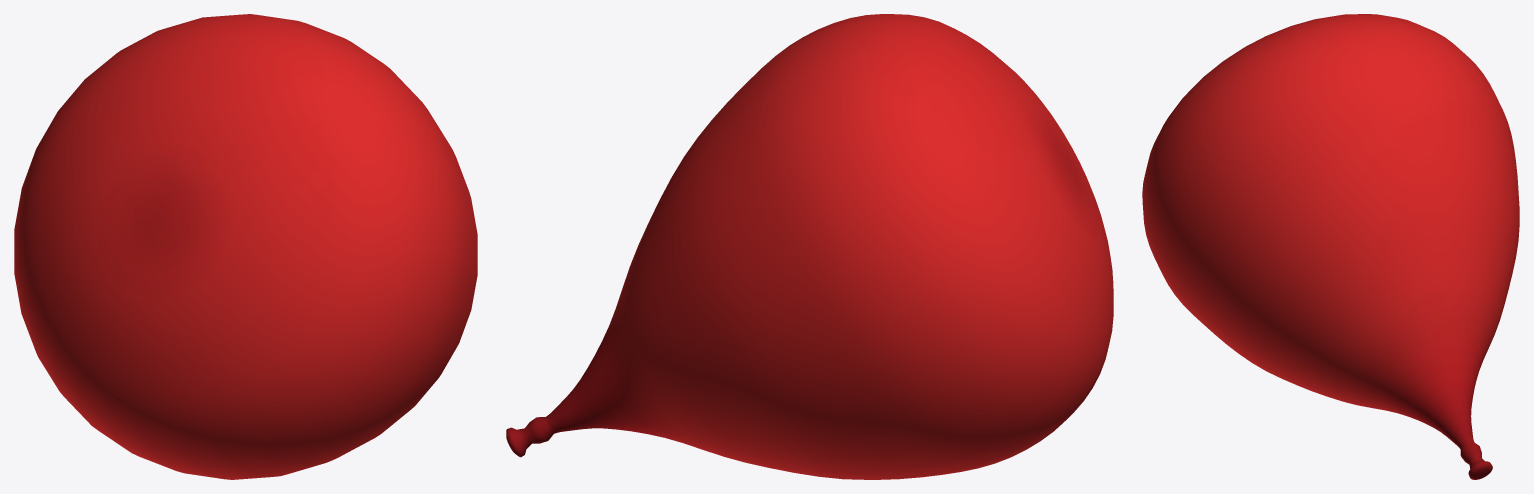
File: balloon.glb
3 views of the same model, side by side, from view 1: azimuth 30°, elevation 25°; view 2: azimuth 150°, elevation 25°; view 3: azimuth 270°, elevation 25° (orthographic). The views are drawn at different scales.
Visible parts, largest first — view 1: balloon_mesh; view 2: balloon_mesh; view 3: balloon_mesh.
Part boxes in pixels (x1,y1,x2,y2): balloon_mesh: [14, 14, 477, 479]; balloon_mesh: [506, 14, 1113, 479]; balloon_mesh: [1142, 14, 1519, 479].
Bounding box in the file's own units: 0.2697 × 0.22 × 0.2188.
Materials: 1 (1 with a texture image).
